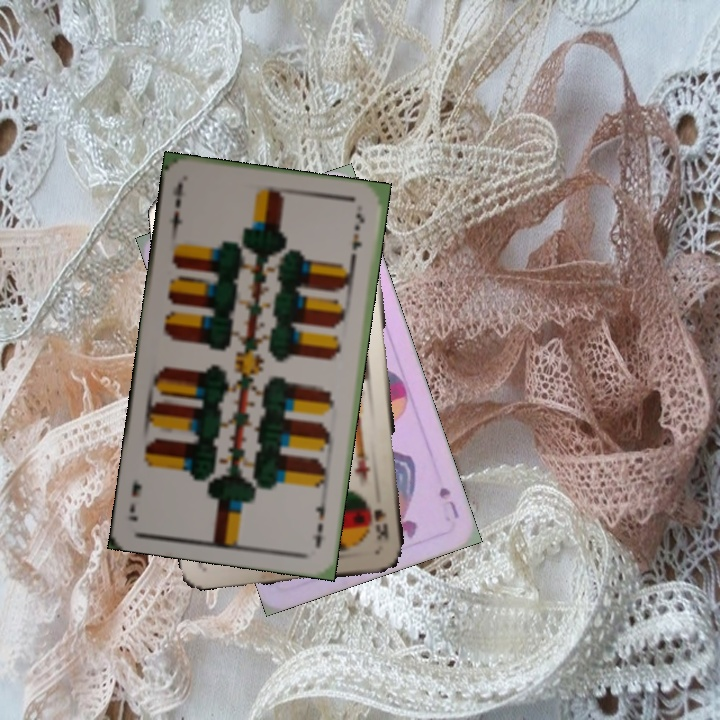E7: (310, 492, 329, 552), (167, 179, 186, 238)
SK: (369, 505, 391, 543)
SU: (434, 483, 462, 521)
